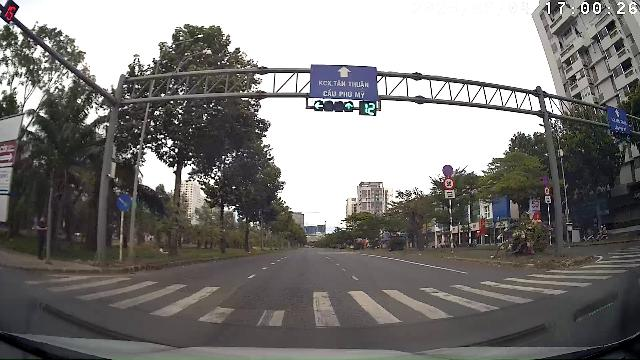127-toc-do-toi-da-80: (444, 178, 454, 189)
130-cam-dung-va-do-xe: (442, 164, 453, 176)
